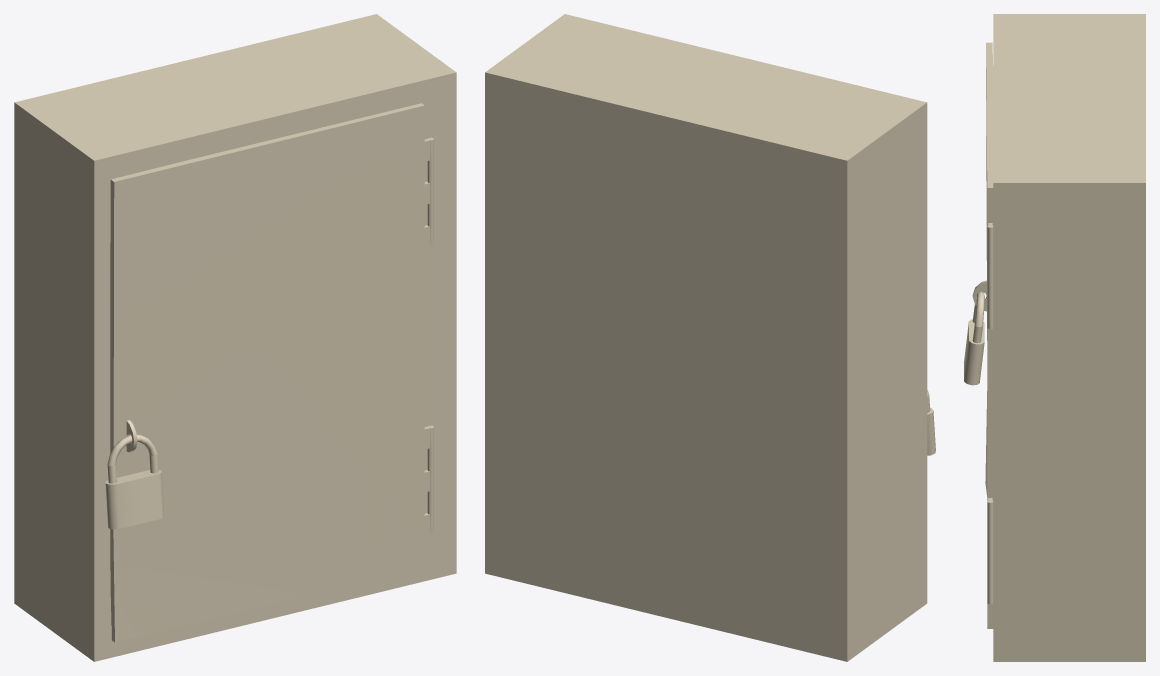
File: Electric_Box_A_Snaps004.FBX
The picture shows the model from 3 angles, left to right: view 1: azimuth 30°, elevation 25°; view 2: azimuth 150°, elevation 25°; view 3: azimuth 270°, elevation 25°; orthographic projection. The views are drawn at different scales.
Parts seen in each view (by area): view 1: Geometry_Electric_Box_A_LOD00; view 2: Geometry_Electric_Box_A_LOD00; view 3: Geometry_Electric_Box_A_LOD00.
Boxes of the visible parts, box(x1,y1,x2,y2) form: Geometry_Electric_Box_A_LOD00: box(14, 14, 456, 661); Geometry_Electric_Box_A_LOD00: box(485, 14, 935, 661); Geometry_Electric_Box_A_LOD00: box(964, 14, 1145, 661).
Size of what is drawn, in the model's own units: 30.62 by 40.47 by 13.93.
